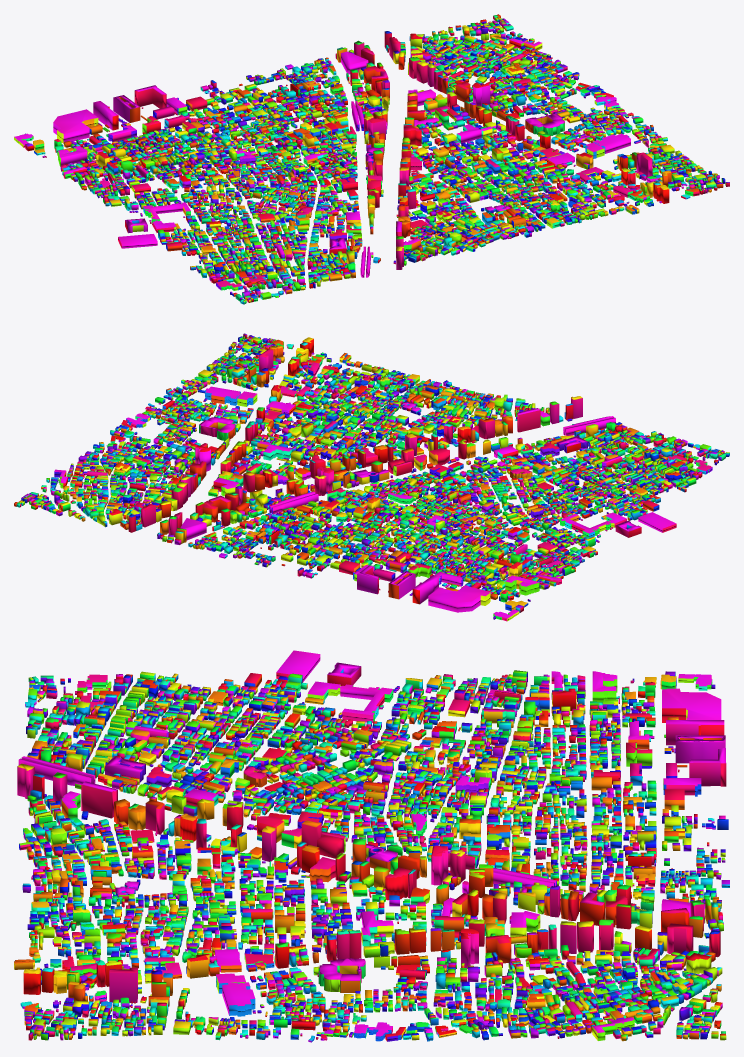
3 views of the same model, one above another, from view 1: azimuth 30°, elevation 25°; view 2: azimuth 150°, elevation 25°; view 3: azimuth 270°, elevation 25° (orthographic). The views are drawn at different scales.
Visible parts, largest first — view 1: BLD_04983178-e669-4b39-bf92-5df1982ee8a5; view 2: BLD_04983178-e669-4b39-bf92-5df1982ee8a5; view 3: BLD_04983178-e669-4b39-bf92-5df1982ee8a5.
Part boxes in pixels (bbox=[...]): BLD_04983178-e669-4b39-bf92-5df1982ee8a5: bbox=[14, 14, 729, 304]; BLD_04983178-e669-4b39-bf92-5df1982ee8a5: bbox=[14, 333, 729, 621]; BLD_04983178-e669-4b39-bf92-5df1982ee8a5: bbox=[14, 650, 729, 1042].
Bounding box in the file's own units: 1218 × 45.25 × 957.
